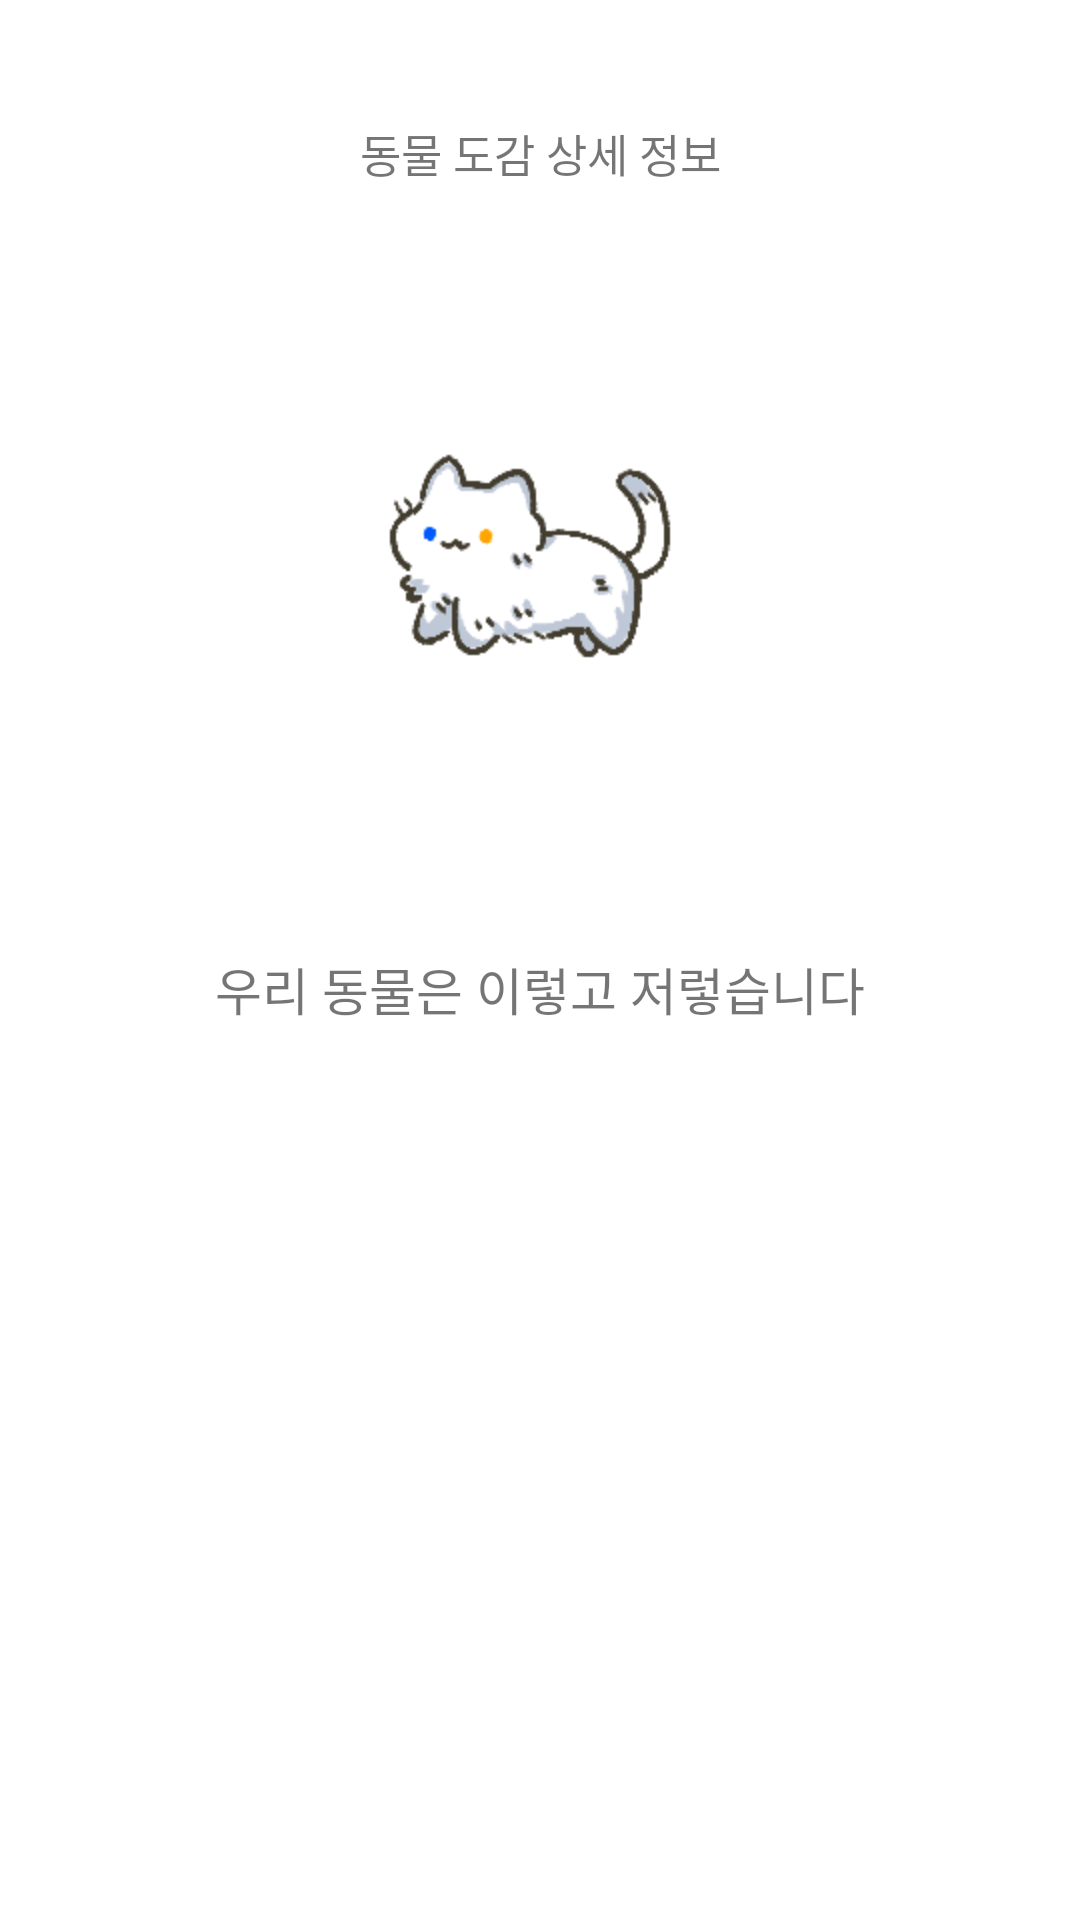

Where icons sit on this 1080px x 1920px app screen, as (x1, y1, x2, y2):
pet cat: (389, 454, 671, 658)
